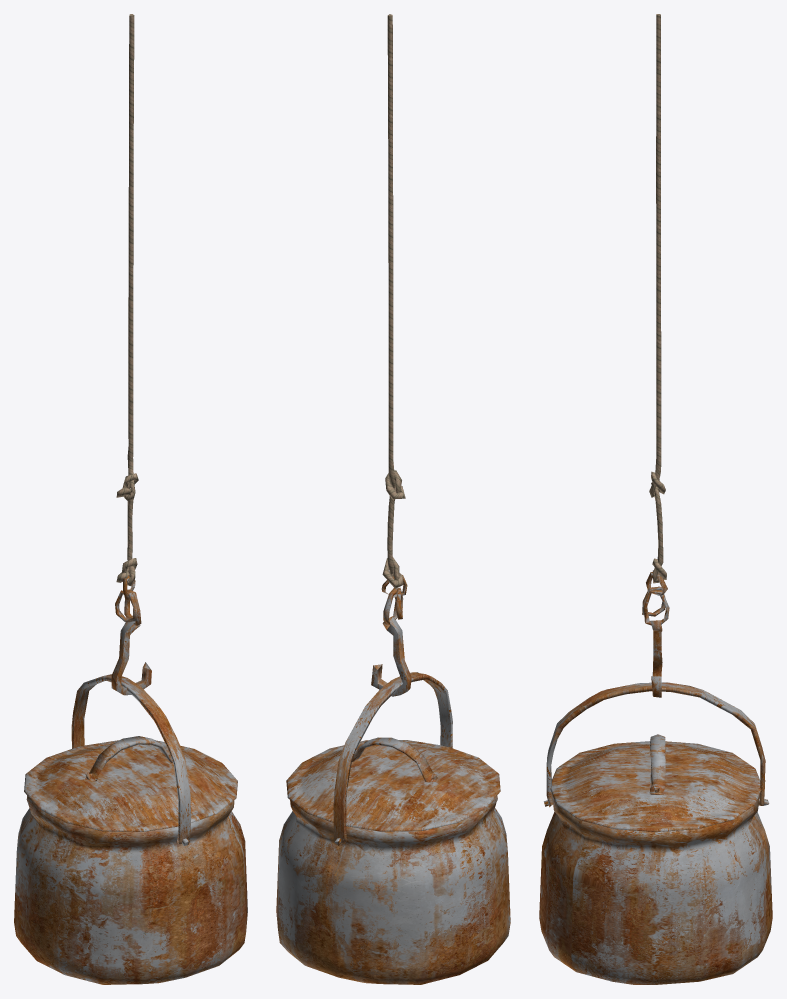
The model's file is SM_pot06.fbx.
3 renders of one model, left to right at view 1: azimuth 30°, elevation 25°; view 2: azimuth 150°, elevation 25°; view 3: azimuth 270°, elevation 25°, orthographic.
Visible parts, largest first — view 1: SM_pot06_LOD0; view 2: SM_pot06_LOD0; view 3: SM_pot06_LOD0.
Part boxes in pixels (<box>): SM_pot06_LOD0: <box>14,14,247,984</box>; SM_pot06_LOD0: <box>276,14,510,984</box>; SM_pot06_LOD0: <box>539,14,772,984</box>.
Size of the model in its own units: 55.84 by 55.84 by 247.
